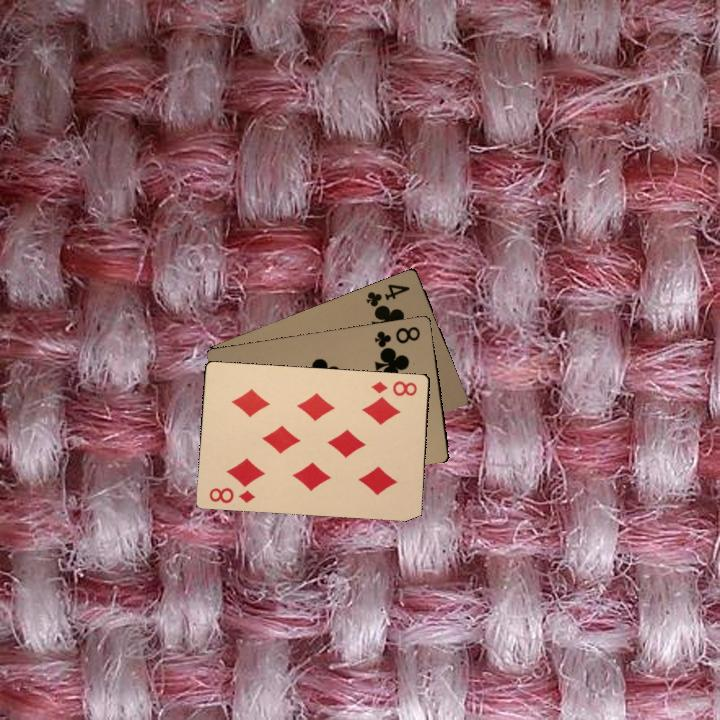4c: (362, 280, 412, 313)
8c: (370, 322, 422, 351)
8d: (205, 483, 257, 506), (367, 377, 419, 399)
